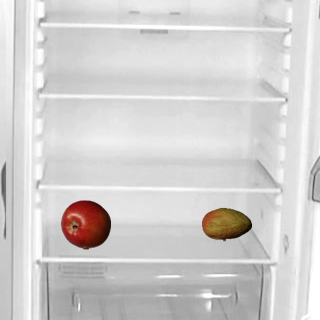Apple Braeburn: (60, 199, 110, 249)
Papaya: (201, 199, 251, 249)
